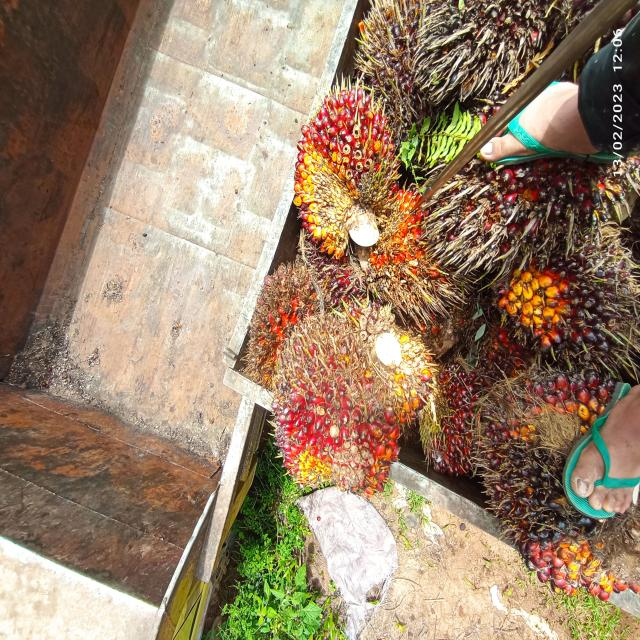fraksi 1: (411, 323, 498, 469)
fraksi 3: (260, 288, 442, 511), (276, 69, 418, 254)
fraksi 4: (336, 178, 445, 329), (236, 238, 326, 396)
